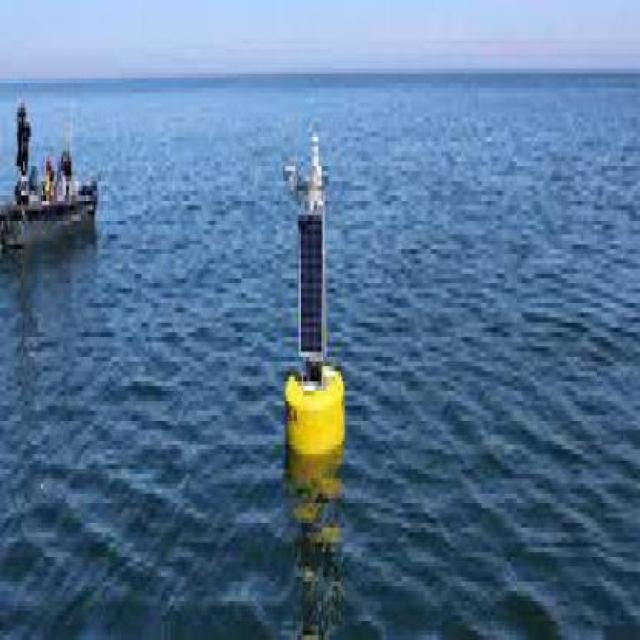buoy: (279, 103, 356, 485)
